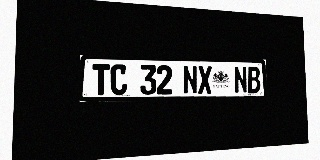2: (157, 65, 172, 94)
3: (140, 65, 156, 95)
B: (247, 66, 260, 93)
C: (110, 64, 127, 95)
N: (183, 65, 198, 94), (234, 66, 247, 93)
T: (92, 64, 110, 95)
X: (198, 66, 212, 94)
